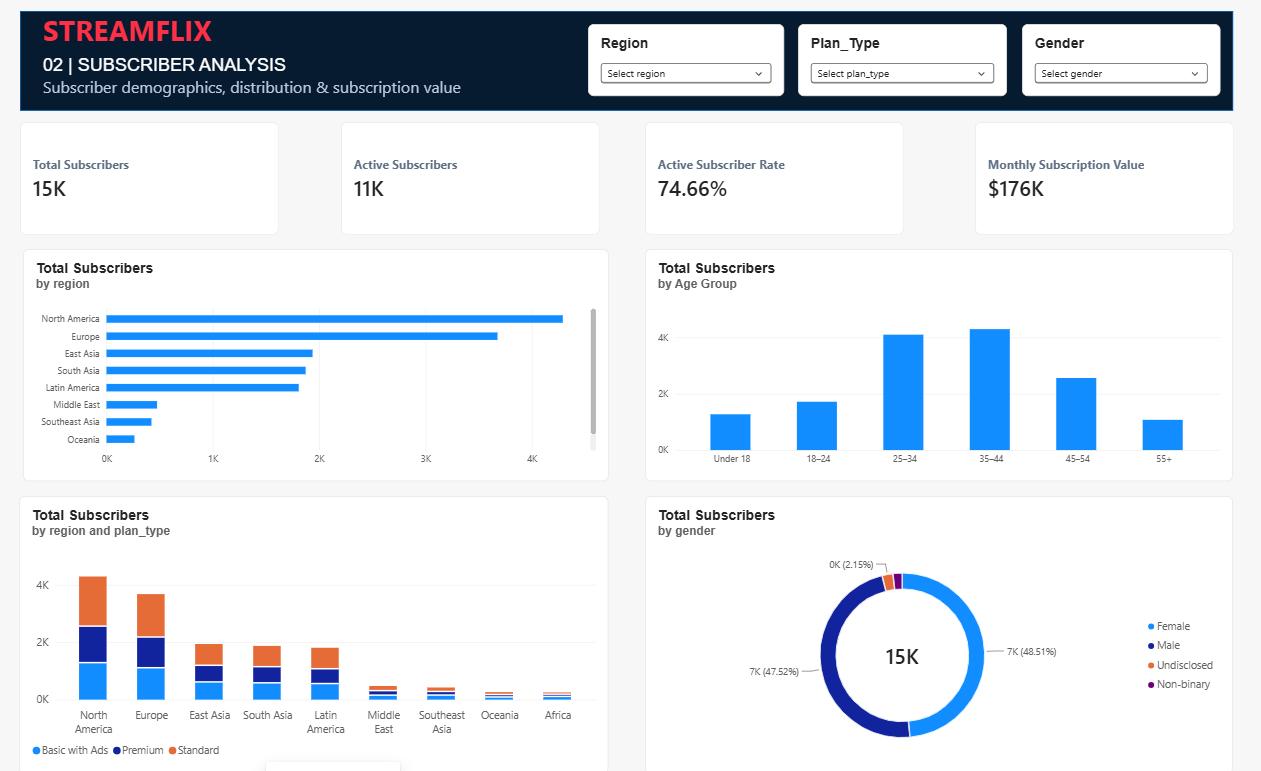

The dashboard page shown, as its layout file describes it:
{"tool":"powerbi","page":{"name":"02 Subscriber Analysis","canvas":[1920,1080],"ordinal":1},"visuals":[{"type":"clusteredBarChart","fields":{"Category":["subscribers.region"],"Y":["_Measures.Total Subscribers"]},"box":[48.6,337.4,779.5,309.4],"z":0},{"type":"clusteredColumnChart","fields":{"Category":["subscribers.Age Group"],"Y":["_Measures.Total Subscribers"]},"box":[876.7,337.4,782.4,309.4],"z":1000},{"type":"donutChart","fields":{"Category":["subscribers.gender"],"Y":["_Measures.Total Subscribers"]},"box":[876.7,666,782.4,369.9],"z":2000},{"type":"columnChart","fields":{"Category":["subscribers.region"],"Series":["subscribers.plan_type"],"Y":["_Measures.Total Subscribers"]},"box":[44.2,666,783.9,369.9],"z":3000},{"type":"shape","box":[45.7,20.6,1613.5,132.6],"z":6000},{"type":"listSlicer","title":"Plan_Type","fields":{"Values":["subscribers.plan_type"]},"box":[1080.1,38.3,278.5,95.8],"z":6250},{"type":"listSlicer","title":"Region","fields":{"Values":["subscribers.region"]},"box":[800.1,38.3,260.8,95.8],"z":6500},{"type":"listSlicer","title":"Gender","fields":{"Values":["subscribers.gender"]},"box":[1377.7,38.3,263.8,95.8],"z":7000},{"type":"textbox","box":[75.1,20.6,272.6,141.5],"z":8000},{"type":"textbox","box":[75.1,78.1,421.4,150.3],"z":9000},{"type":"textbox","box":[75.1,107.6,651.3,150.3],"z":10000},{"type":"cardVisual","fields":{"Data":["_Measures.Total Subscribers"]},"box":[45.7,169.5,344.8,150],"z":11000},{"type":"cardVisual","fields":{"Data":["_Measures.Active Subscribers"]},"box":[471.5,169.5,344,150],"z":12000},{"type":"cardVisual","fields":{"Data":["_Measures.Active Subscriber Rate"]},"box":[876.7,169.5,344,150],"z":13000},{"type":"cardVisual","fields":{"Data":["_Measures.Estimated Monthly Subscription Value"]},"box":[1315.9,169.5,344,150],"z":14000}]}

Visuals, with their boxes on the page's 1920x1080 design canvas (x1, y1, x2, y2). These are canvas units, not pixel positions in the 1261x771 screenshot, which may show the page scaled, cropped or inside an application window:
clusteredBarChart - subscribers.region x _Measures.Total Subscribers: region(49, 337, 828, 647)
clusteredColumnChart - subscribers.Age Group x _Measures.Total Subscribers: region(877, 337, 1659, 647)
donutChart - subscribers.gender x _Measures.Total Subscribers: region(877, 666, 1659, 1036)
columnChart - subscribers.region x subscribers.plan_type: region(44, 666, 828, 1036)
shape: region(46, 21, 1659, 153)
"Plan_Type" listSlicer: region(1080, 38, 1359, 134)
"Region" listSlicer: region(800, 38, 1061, 134)
"Gender" listSlicer: region(1378, 38, 1642, 134)
textbox: region(75, 21, 348, 162)
textbox: region(75, 78, 496, 228)
textbox: region(75, 108, 726, 258)
cardVisual - _Measures.Total Subscribers: region(46, 170, 390, 320)
cardVisual - _Measures.Active Subscribers: region(472, 170, 816, 320)
cardVisual - _Measures.Active Subscriber Rate: region(877, 170, 1221, 320)
cardVisual - _Measures.Estimated Monthly Subscription Value: region(1316, 170, 1660, 320)
